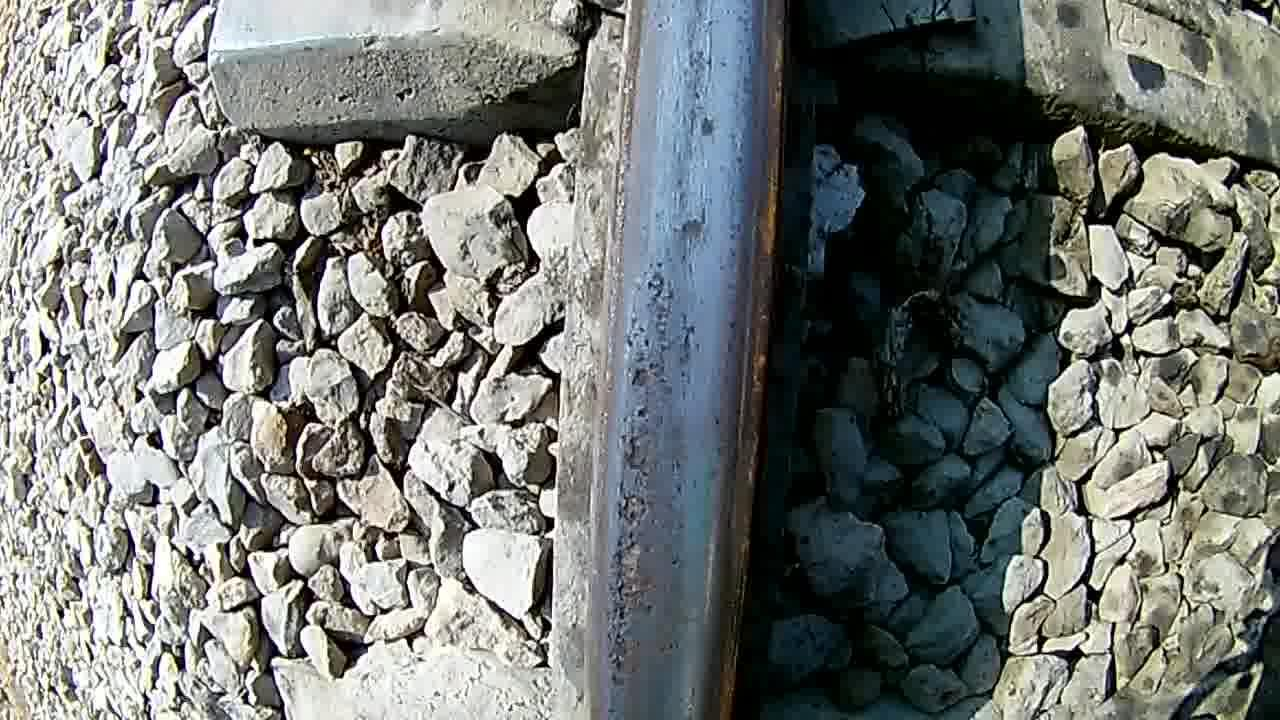crack: (572, 0, 758, 715)
